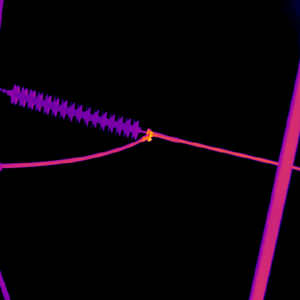insulator: (10, 85, 139, 139)
